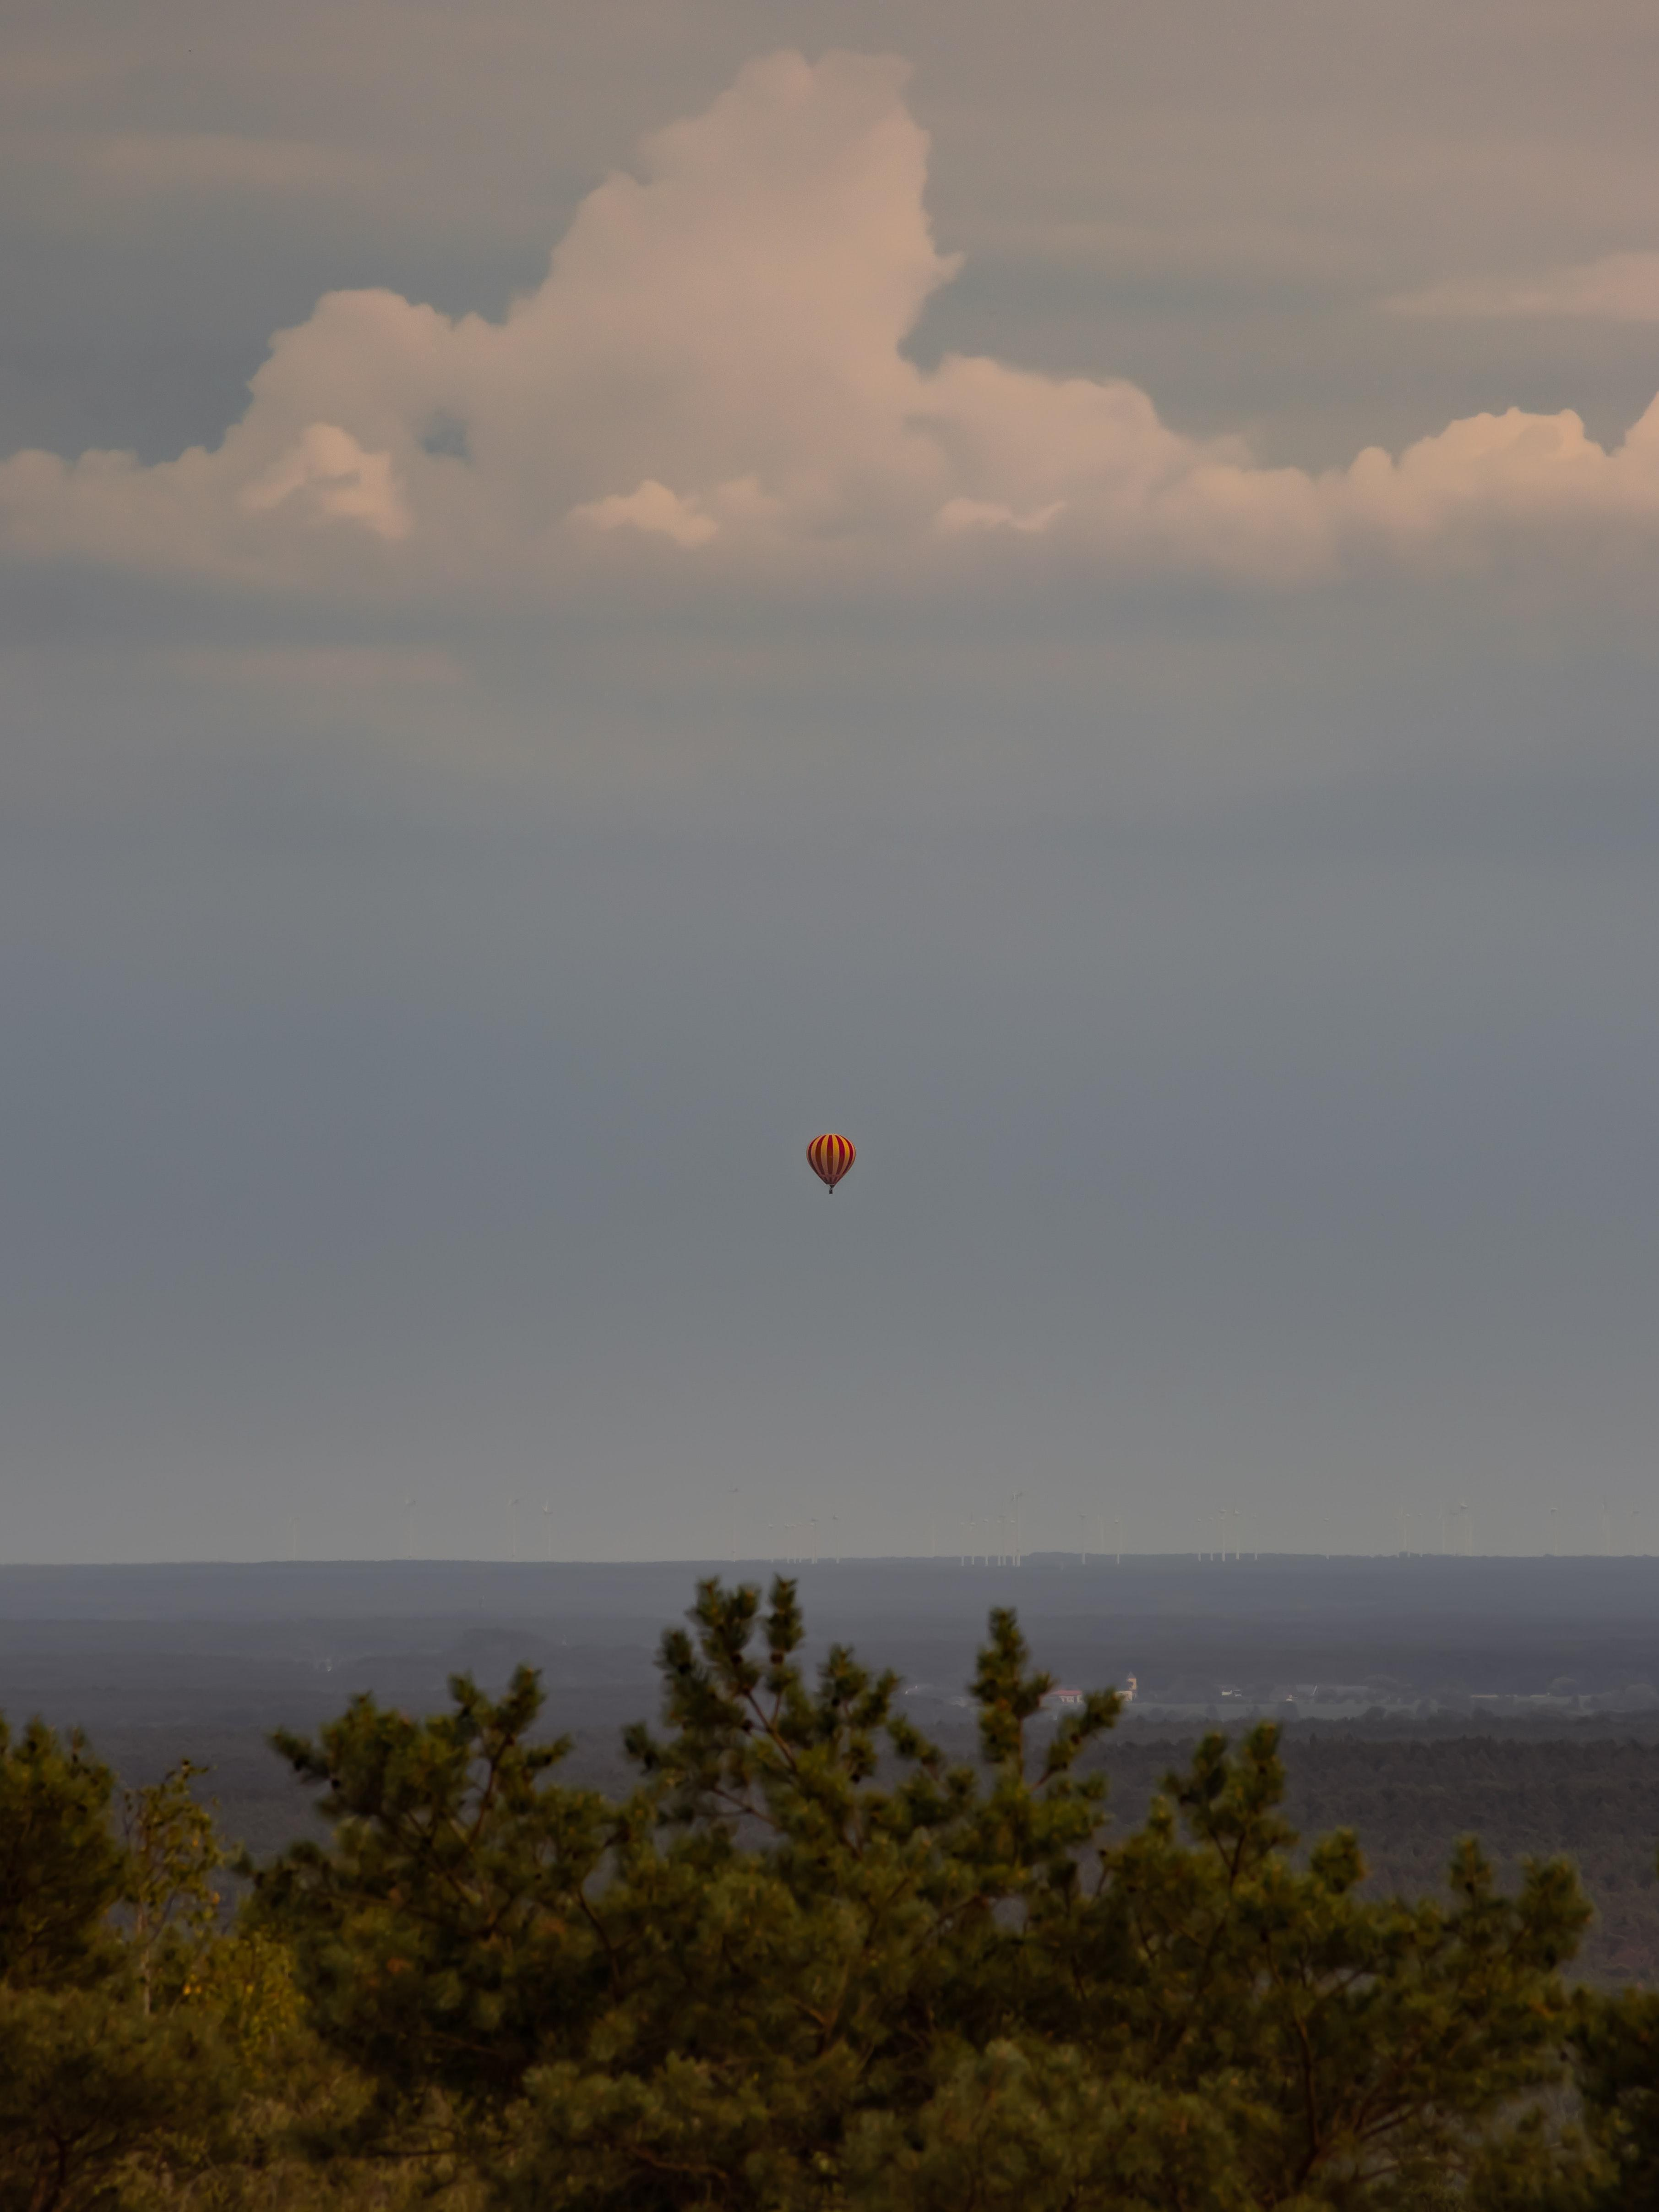hot air ballon: (803, 1133, 856, 1194)
